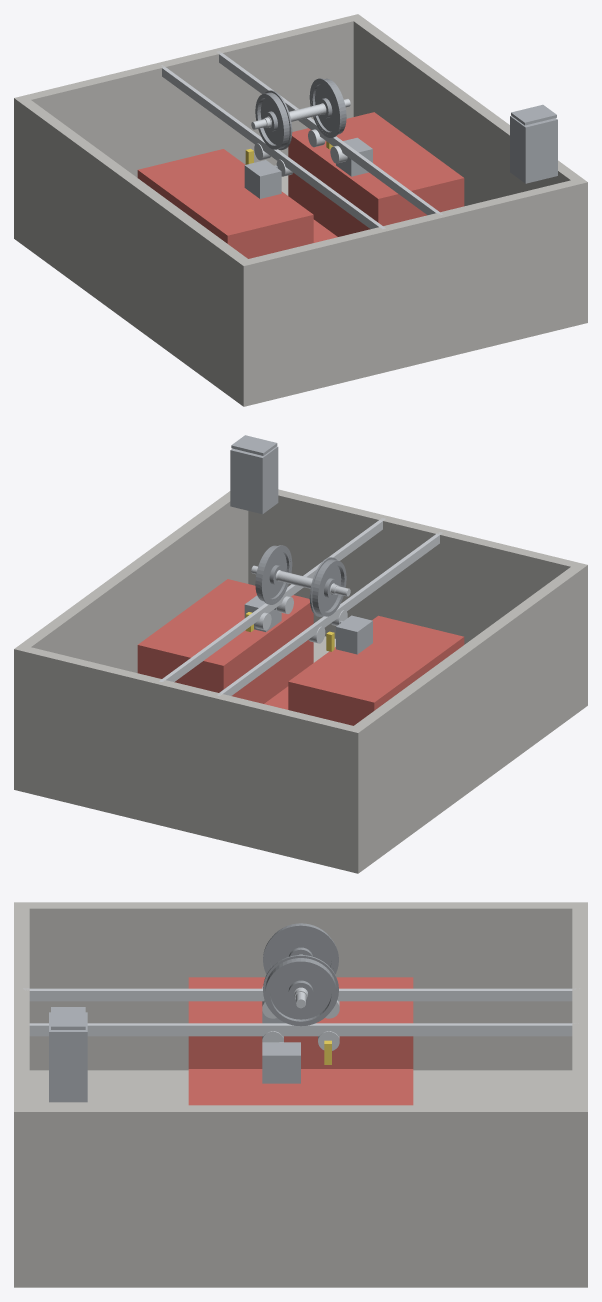
The model's file is modele.glb.
3 views of the same model, one above another, from view 1: azimuth 30°, elevation 25°; view 2: azimuth 150°, elevation 25°; view 3: azimuth 270°, elevation 25° (orthographic). The views are drawn at different scales.
Parts seen in each view (by area): view 1: fosse, bati, rails, pupitre, roue_tour_g, roue_tour_d, tete_outil_g, galets, tete_outil_d, axe_tour; view 2: fosse, bati, rails, pupitre, roue_tour_g, roue_tour_d, tete_outil_g, galets, axe_tour; view 3: fosse, bati, rails, roue_tour_d, pupitre, roue_tour_g, tete_outil_d, galets.
Part boxes in pixels (bbox=[...]): fosse: bbox=[14, 14, 587, 406]; bati: bbox=[137, 112, 464, 258]; rails: bbox=[161, 51, 442, 229]; pupitre: bbox=[510, 104, 557, 183]; roue_tour_g: bbox=[255, 90, 292, 150]; roue_tour_d: bbox=[309, 78, 346, 137]; tete_outil_g: bbox=[244, 160, 281, 198]; galets: bbox=[254, 129, 347, 176]; tete_outil_d: bbox=[336, 137, 372, 176]; axe_tour: bbox=[251, 98, 350, 129]; fosse: bbox=[14, 489, 587, 873]; bati: bbox=[137, 579, 464, 725]; rails: bbox=[159, 518, 442, 695]; pupitre: bbox=[230, 435, 278, 514]; roue_tour_g: bbox=[309, 557, 346, 616]; roue_tour_d: bbox=[255, 545, 292, 604]; tete_outil_g: bbox=[336, 615, 372, 654]; galets: bbox=[254, 596, 347, 643]; axe_tour: bbox=[251, 565, 350, 596]; fosse: bbox=[14, 902, 587, 1287]; bati: bbox=[188, 977, 413, 1105]; rails: bbox=[23, 988, 579, 1036]; roue_tour_d: bbox=[263, 955, 338, 1026]; pupitre: bbox=[49, 1007, 87, 1102]; roue_tour_g: bbox=[263, 923, 338, 974]; tete_outil_d: bbox=[262, 1042, 300, 1083]; galets: bbox=[262, 1000, 339, 1050].
Bounding box in the file's own units: 6.4 × 3.58 × 7.4.
